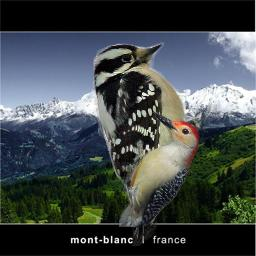Woodpecker: (90, 39, 217, 246), (119, 112, 199, 227)
